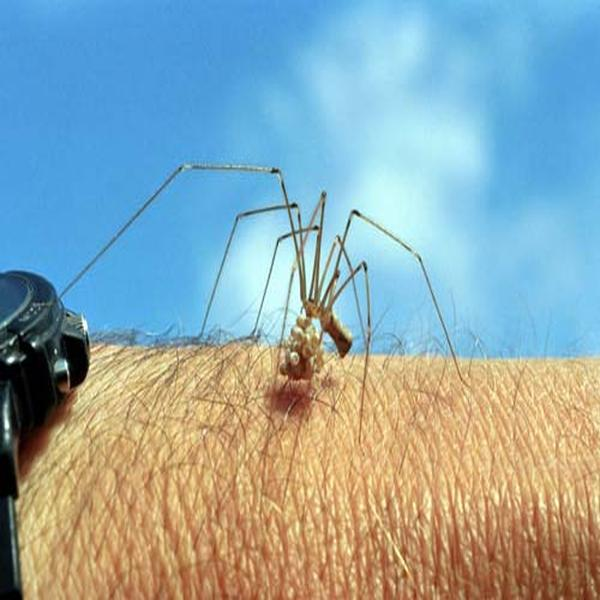Daddy Long Legs Spider: (64, 158, 483, 476)
